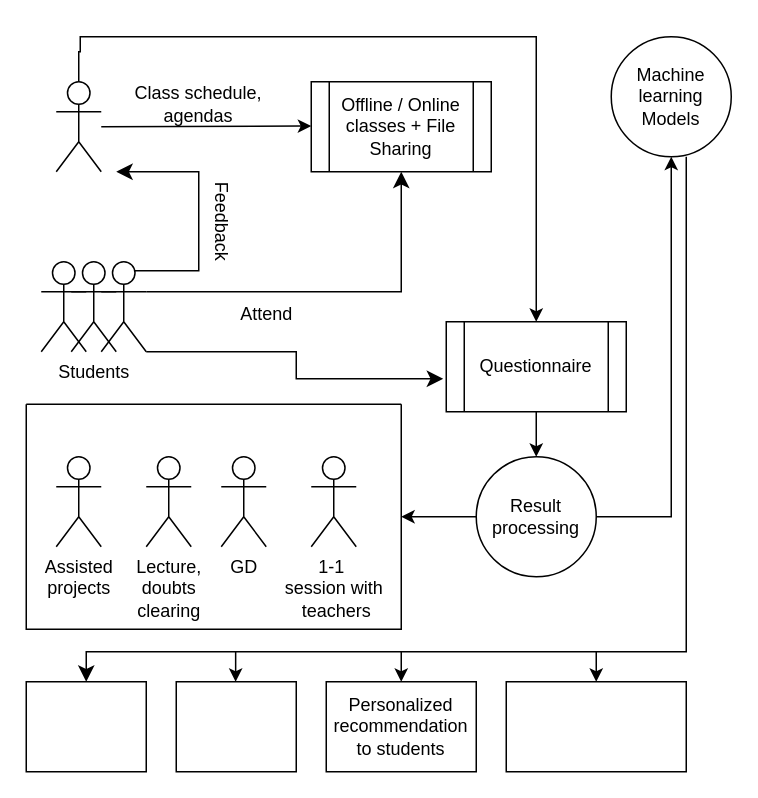
The diagram is 758 pixels wide and 798 high, and some of its shapes have lost their labels. The centre of each missing label's shape, as x and y in pixels:
Lesson planning guides: point (235, 726)
Progress updates to parents and regular intervals: point (595, 726)
Student performance predictions: point (85, 726)
Student preference for upcoming lecture: point (213, 516)
Teachers: point (78, 126)
